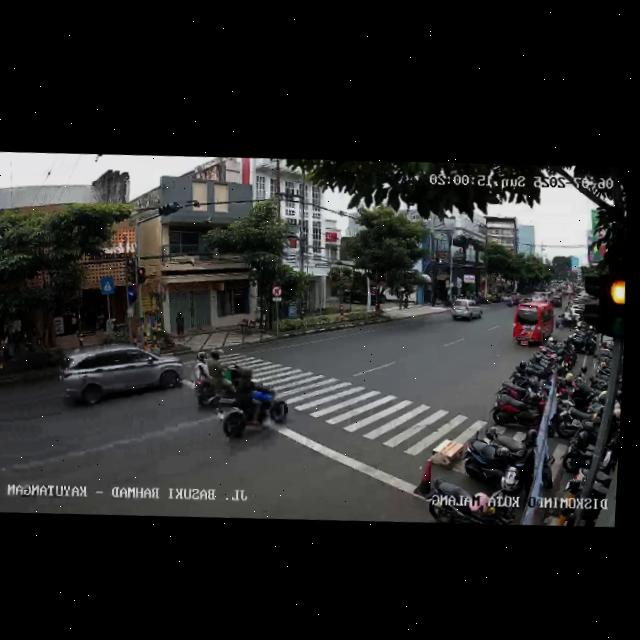car: (56, 339, 181, 417), (510, 299, 556, 348), (449, 297, 486, 325)
motorcycle: (213, 365, 288, 445), (187, 345, 256, 414)
person: (171, 309, 187, 343)
